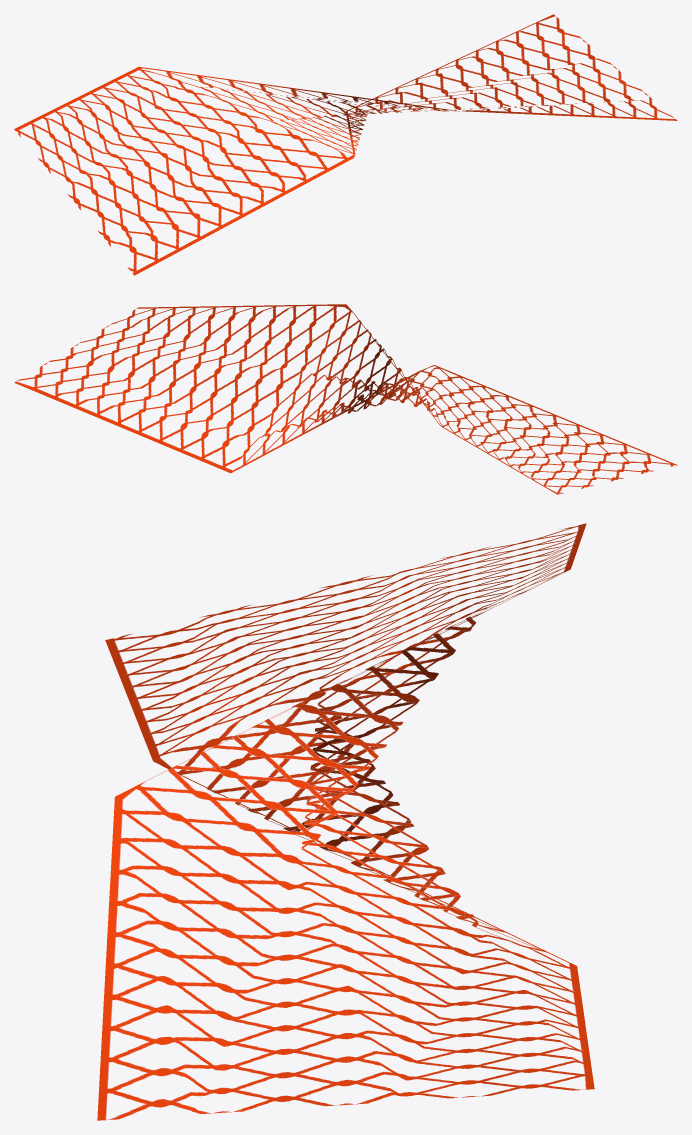
File: orangeFence_loose.fbx
The picture shows the model from 3 angles, top to bottom: view 1: azimuth 30°, elevation 25°; view 2: azimuth 150°, elevation 25°; view 3: azimuth 270°, elevation 25°; orthographic projection. The views are drawn at different scales.
Visible parts, largest first — view 1: Plane01, Duplicate02; view 2: Plane01, Duplicate02; view 3: Plane01, Duplicate02.
Boxes of the visible parts, bbox=[...] form: Plane01: bbox=[14, 14, 677, 275]; Duplicate02: bbox=[15, 18, 673, 267]; Plane01: bbox=[14, 304, 677, 494]; Duplicate02: bbox=[19, 304, 673, 492]; Plane01: bbox=[97, 523, 594, 1120]; Duplicate02: bbox=[98, 524, 593, 1120].
Bounding box in the file's own units: 210 × 35.71 × 83.3.
